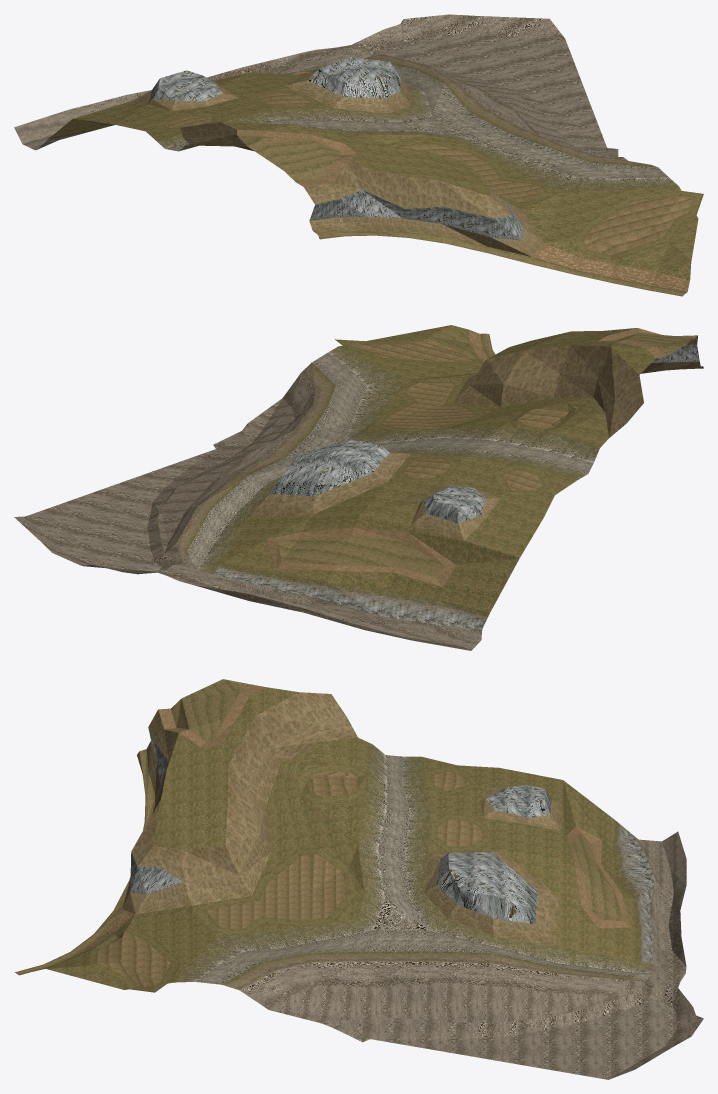
The model's file is lodcuntw53.obj.
3 renders of one model, top to bottom at view 1: azimuth 30°, elevation 25°; view 2: azimuth 150°, elevation 25°; view 3: azimuth 270°, elevation 25°, orthographic. The views are drawn at different scales.
Visible parts, largest first — view 1: lodcuntw53; view 2: lodcuntw53; view 3: lodcuntw53.
Boxes of the visible parts, <box> form: lodcuntw53: <box>14,14,703,296</box>; lodcuntw53: <box>14,325,703,650</box>; lodcuntw53: <box>14,679,703,1079</box>.
Bounding box in the file's own units: 296 × 89.67 × 351.
Materials: 11 (11 with a texture image).
